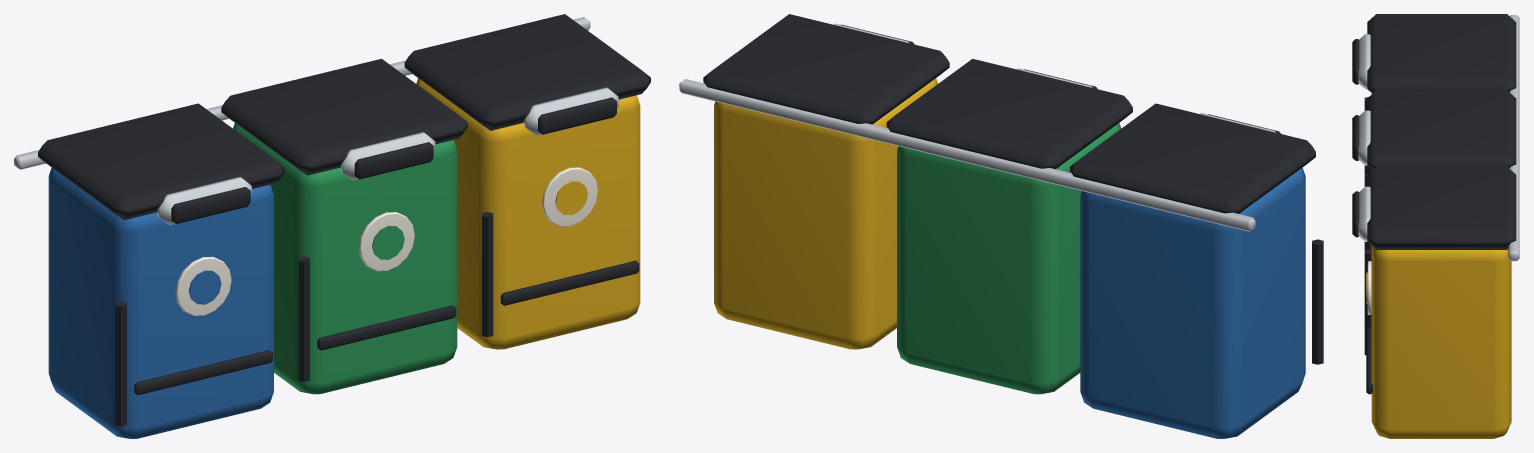
Rendered from recycling_bins_triple.glb.
3 renders of one model, left to right at view 1: azimuth 30°, elevation 25°; view 2: azimuth 150°, elevation 25°; view 3: azimuth 270°, elevation 25°, orthographic. The views are drawn at different scales.
Parts seen in each view (by area): view 1: recycling_bins_triple; view 2: recycling_bins_triple; view 3: recycling_bins_triple.
Boxes of the visible parts, x1,y1,x2,y2 form: recycling_bins_triple: [14, 14, 650, 438]; recycling_bins_triple: [679, 14, 1323, 438]; recycling_bins_triple: [1352, 14, 1519, 438].
Bounding box in the file's own units: 2.5 × 1.05 × 0.741.
